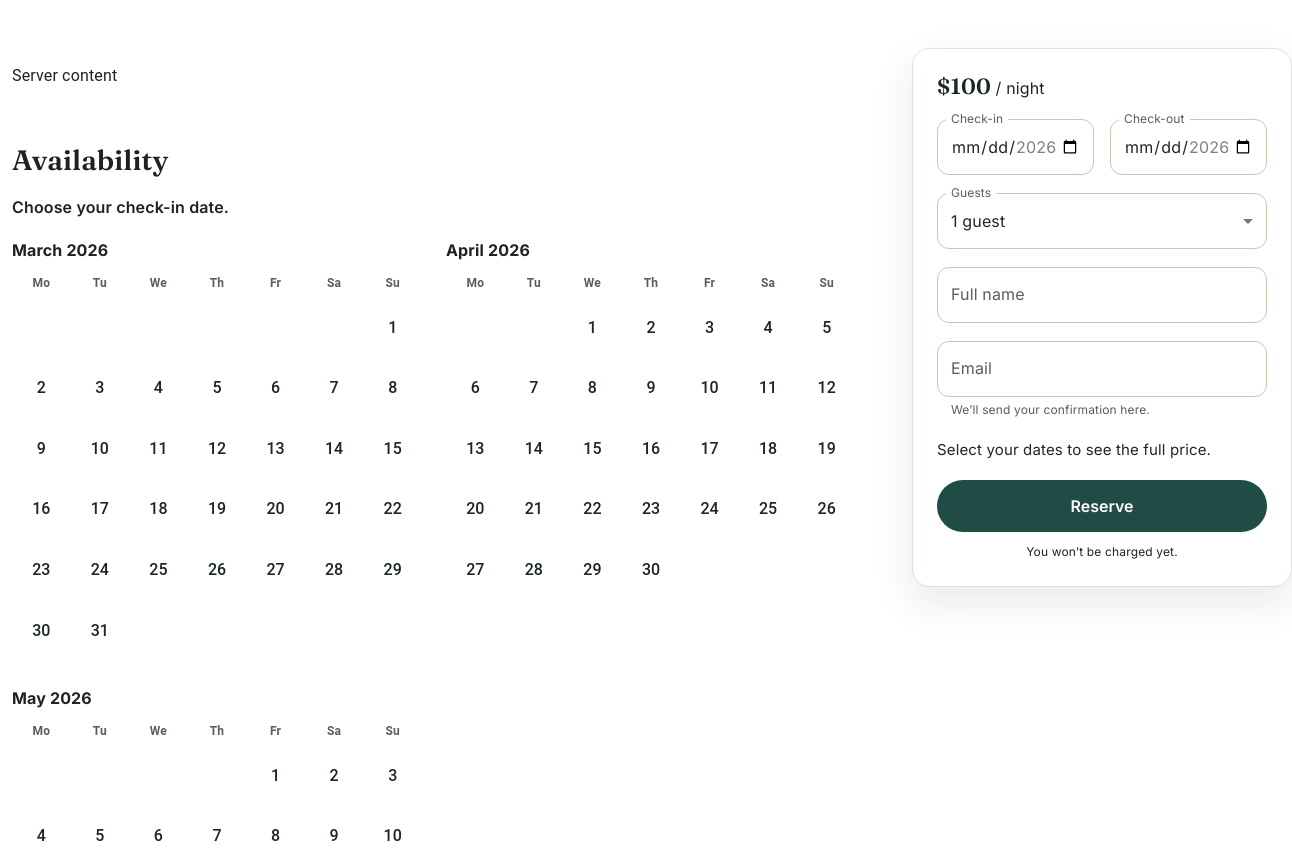
Scenario: booking flow › shows a live price breakdown once dates are chosen
This screenshot has width=1292, height=868.
Check: the text "Select your dates to see the full price." is shown, box [937,440,1211,459]
Click the button named "March 10, 2026": click(100, 449) [71,420,129,478]
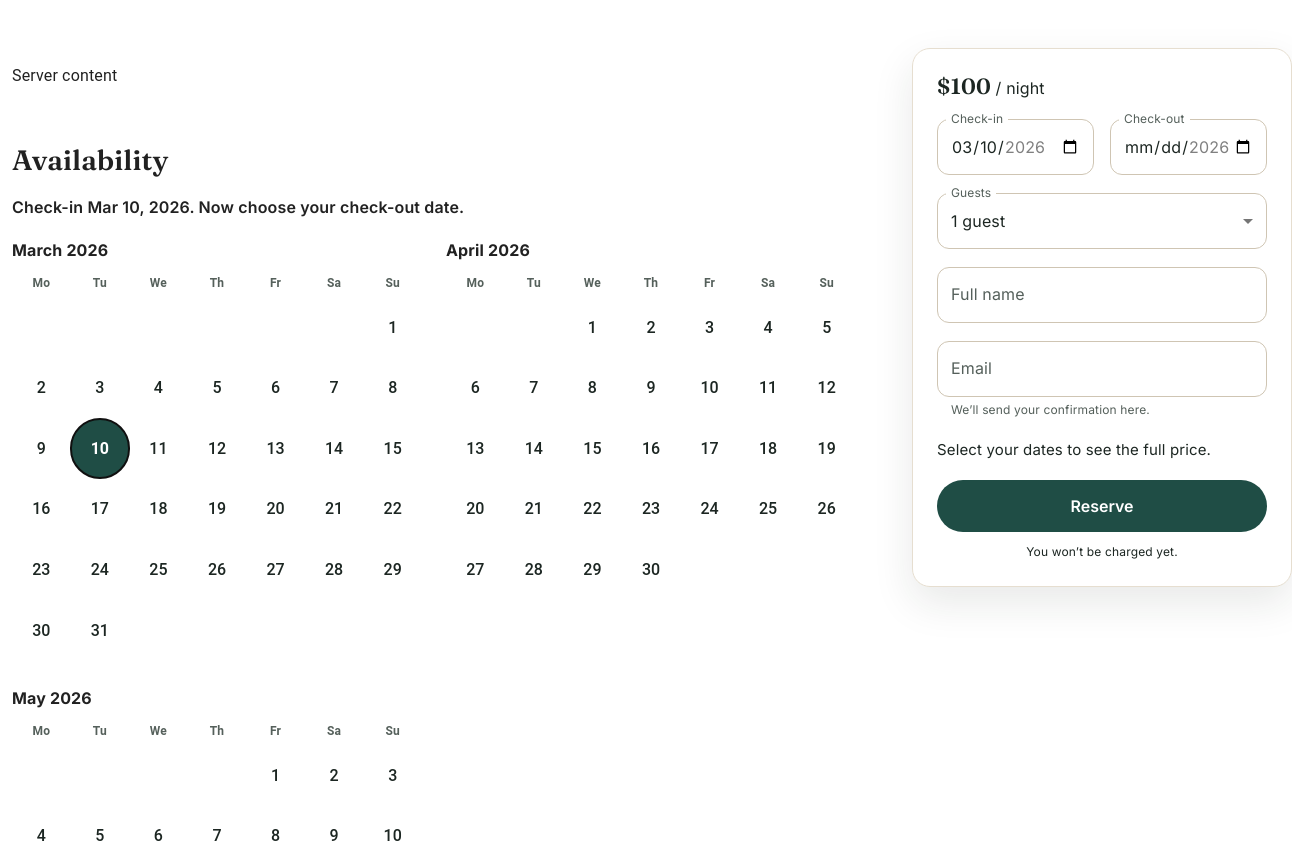
Click the button named "March 13, 2026": click(276, 449) [246,420,305,478]
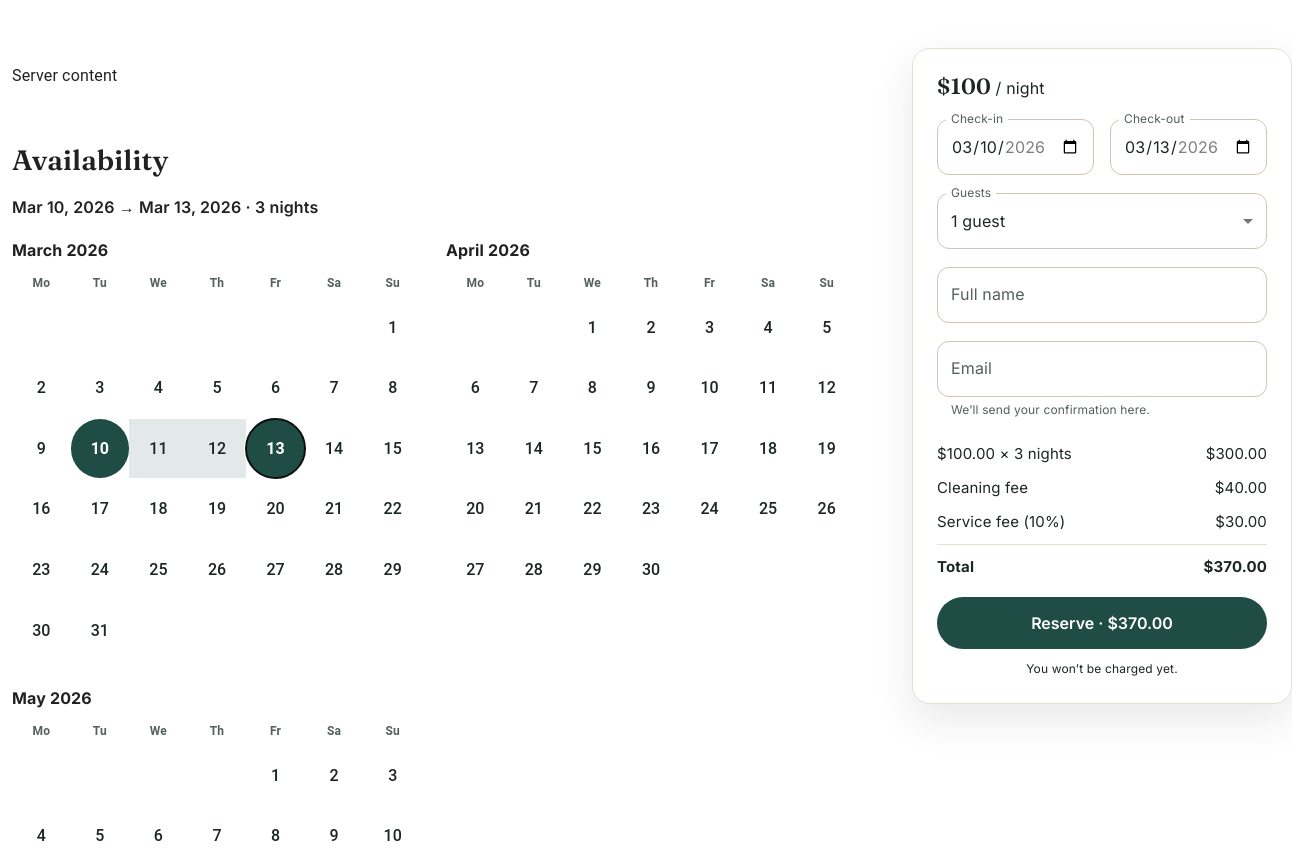
Check: the message with test id "selection-summary" shows "3 nights", box [12,197,318,217]
Check: the text "$100.00 × 3 nights" is shown, box [937,442,1072,466]
Check: the text "$300.00" is shown, box [1206,442,1267,466]
